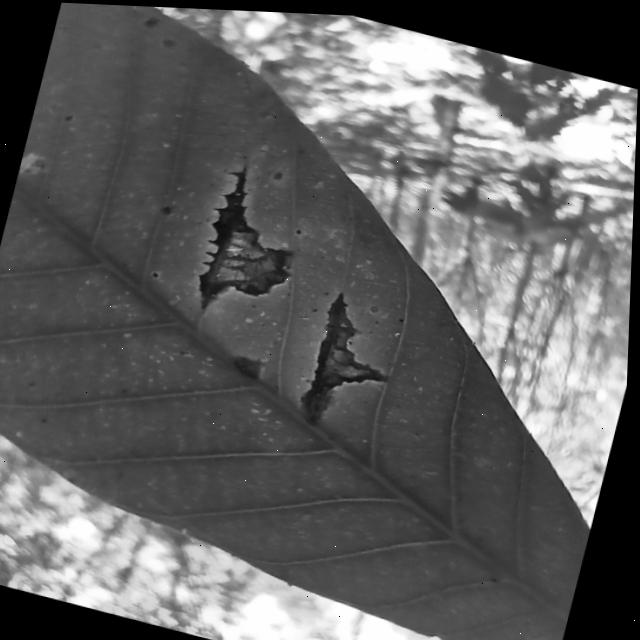Corynespora: (190, 157, 317, 332), (297, 283, 409, 441)
